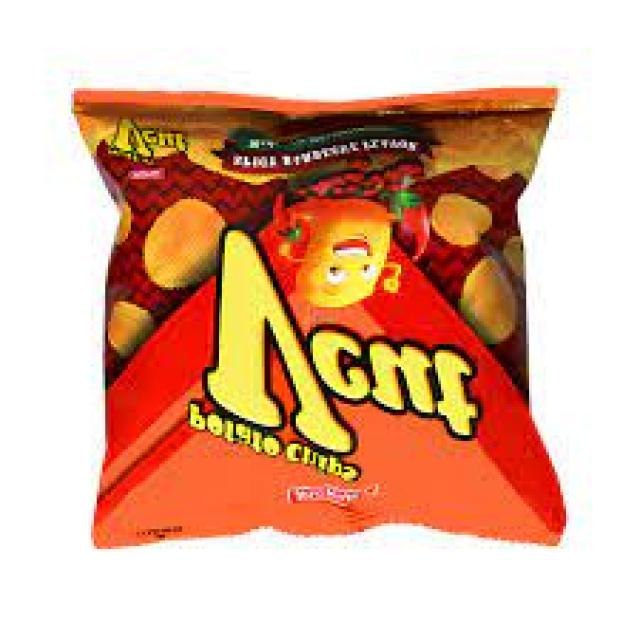junkfood wrapper: (77, 91, 565, 545)
